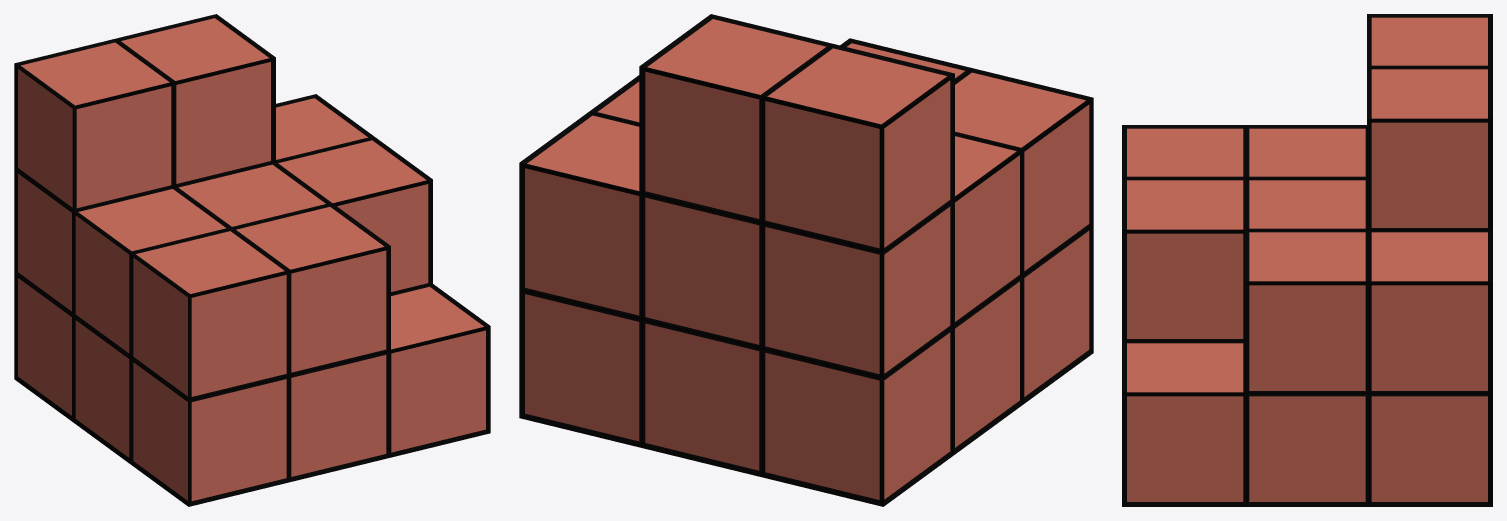
File: Angabe-4.fbx
The picture shows the model from 3 angles, left to right: view 1: azimuth 30°, elevation 25°; view 2: azimuth 150°, elevation 25°; view 3: azimuth 270°, elevation 25°; orthographic projection. The views are drawn at different scales.
Visible parts, largest first — view 1: Angabe3:Mesh; view 2: Angabe3:Mesh; view 3: Angabe3:Mesh.
Boxes of the visible parts, <box> form: Angabe3:Mesh: <box>14,14,490,506</box>; Angabe3:Mesh: <box>519,14,1093,506</box>; Angabe3:Mesh: <box>1122,14,1492,506</box>.
Bounding box in the file's own units: 6.06 × 6.06 × 6.06.
